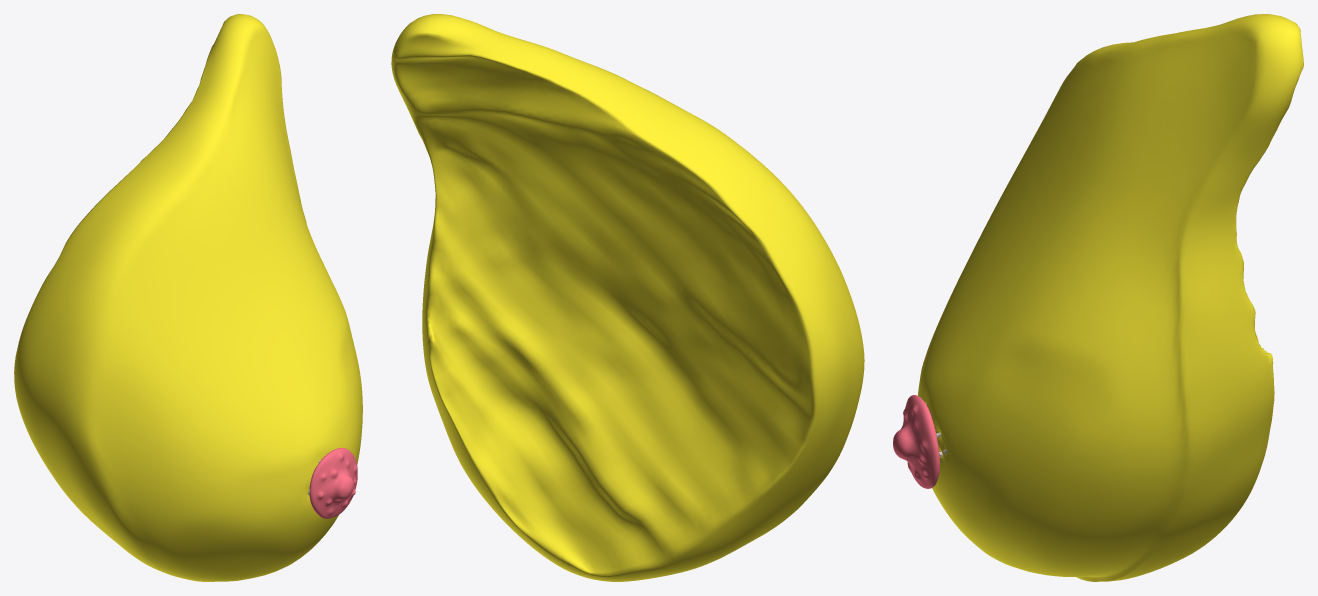
The model's file is density75.glb.
The picture shows the model from 3 angles, left to right: view 1: azimuth 30°, elevation 25°; view 2: azimuth 150°, elevation 25°; view 3: azimuth 270°, elevation 25°; orthographic projection. The views are drawn at different scales.
Visible parts, largest first — view 1: VH_F_fat_L, VH_F_areola_L; view 2: VH_F_fat_L; view 3: VH_F_fat_L, VH_F_areola_L.
Part boxes in pixels (left/top/right/bottom): VH_F_fat_L: left=14, top=14, right=362, bottom=581; VH_F_areola_L: left=308, top=448, right=357, bottom=518; VH_F_fat_L: left=391, top=14, right=864, bottom=581; VH_F_fat_L: left=918, top=14, right=1303, bottom=581; VH_F_areola_L: left=893, top=395, right=943, bottom=488.
Size of the model in its own units: 0.1282 by 0.1819 by 0.1119.
Materials: 2 (2 with a texture image).
